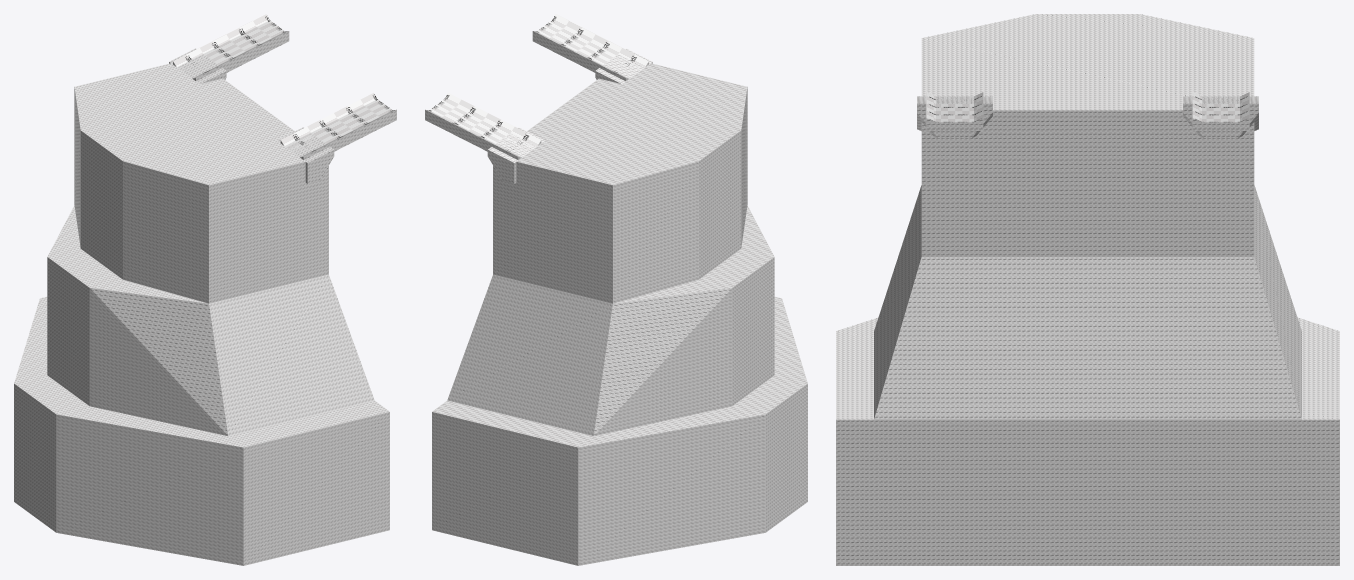
The model's file is 13yard-small.obj.
3 views of the same model, side by side, from view 1: azimuth 30°, elevation 25°; view 2: azimuth 150°, elevation 25°; view 3: azimuth 270°, elevation 25° (orthographic). The views are drawn at different scales.
Visible parts, largest first — view 1: entity0_brush13, entity0_brush9, entity0_brush10, entity0_brush12, entity0_brush8, entity0_brush11, entity0_brush4, entity0_brush7, entity0_brush0, entity0_brush6, entity0_brush3, entity0_brush2 (+2 smaller); view 2: entity0_brush13, entity0_brush9, entity0_brush10, entity0_brush12, entity0_brush8, entity0_brush11, entity0_brush7, entity0_brush4, entity0_brush1, entity0_brush2, entity0_brush5, entity0_brush0 (+2 smaller); view 3: entity0_brush12, entity0_brush11, entity0_brush9, entity0_brush8, entity0_brush0, entity0_brush1, entity0_brush4, entity0_brush7.
Part boxes in pixels (x1,y1,x2,y2): entity0_brush13: [14, 298, 243, 565]; entity0_brush9: [75, 63, 328, 303]; entity0_brush10: [47, 205, 227, 435]; entity0_brush12: [40, 296, 389, 565]; entity0_brush8: [74, 87, 208, 303]; entity0_brush11: [209, 274, 374, 435]; entity0_brush4: [284, 99, 392, 156]; entity0_brush7: [177, 20, 284, 69]; entity0_brush0: [277, 127, 334, 183]; entity0_brush6: [192, 31, 289, 81]; entity0_brush3: [300, 109, 396, 160]; entity0_brush2: [280, 93, 377, 145]; entity0_brush13: [578, 298, 807, 565]; entity0_brush9: [493, 63, 746, 303]; entity0_brush10: [594, 205, 774, 435]; entity0_brush12: [432, 296, 781, 565]; entity0_brush8: [613, 87, 747, 303]; entity0_brush11: [447, 274, 612, 435]; entity0_brush7: [429, 99, 537, 156]; entity0_brush4: [537, 20, 644, 70]; entity0_brush1: [487, 127, 544, 183]; entity0_brush2: [532, 31, 629, 81]; entity0_brush5: [425, 109, 521, 160]; entity0_brush0: [595, 48, 652, 84]; entity0_brush12: [836, 331, 1339, 565]; entity0_brush11: [874, 185, 1301, 419]; entity0_brush9: [921, 38, 1254, 256]; entity0_brush8: [923, 14, 1252, 37]; entity0_brush0: [917, 96, 992, 138]; entity0_brush1: [1183, 96, 1258, 138]; entity0_brush4: [936, 96, 973, 130]; entity0_brush7: [1202, 96, 1239, 130].
Size of the model in its own units: 712 by 880 by 848.
